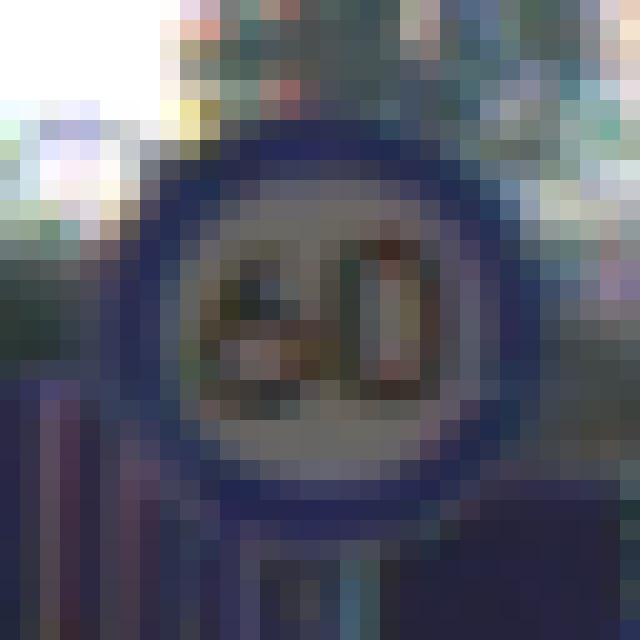SPEED-LIMIT-60: (104, 124, 548, 560)
